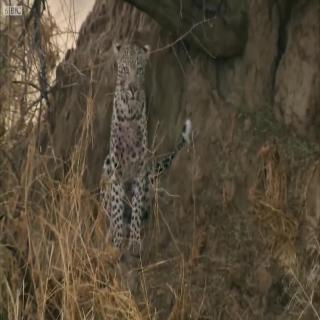Leopard: (94, 31, 173, 246)
